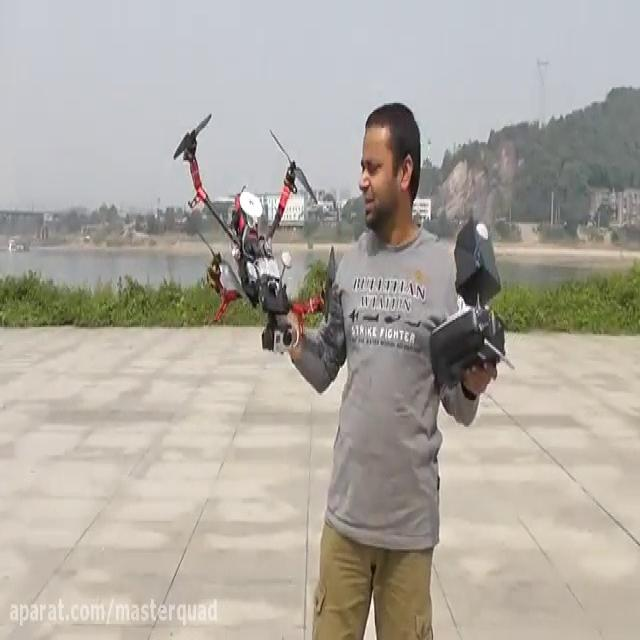drone: (170, 110, 338, 354)
